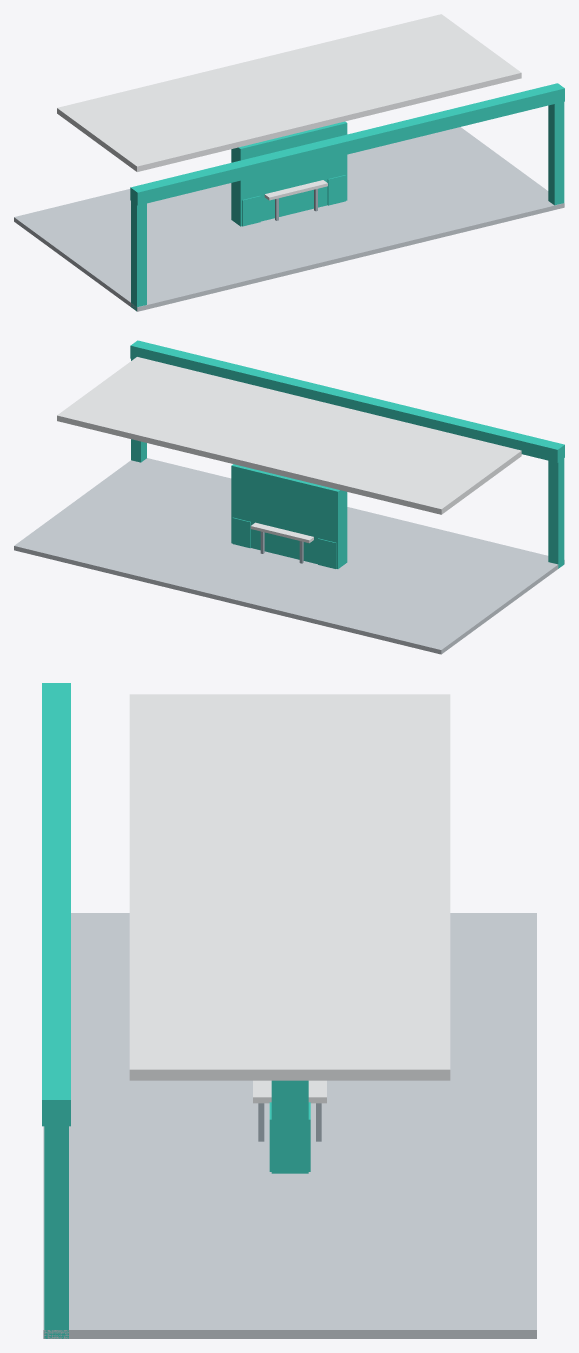
3 renders of one model, top to bottom at view 1: azimuth 30°, elevation 25°; view 2: azimuth 150°, elevation 25°; view 3: azimuth 270°, elevation 25°, orthographic. The views are drawn at different scales.
Visible parts, largest first — view 1: Exhibition Booth Concept; view 2: Exhibition Booth Concept; view 3: Exhibition Booth Concept.
Boxes of the visible parts, x1,y1,x2,y2 form: Exhibition Booth Concept: (14,14,564,311); Exhibition Booth Concept: (14,340,564,654); Exhibition Booth Concept: (42,683,536,1338).
Bounding box in the file's own units: 12 × 3.34 × 6.02.
